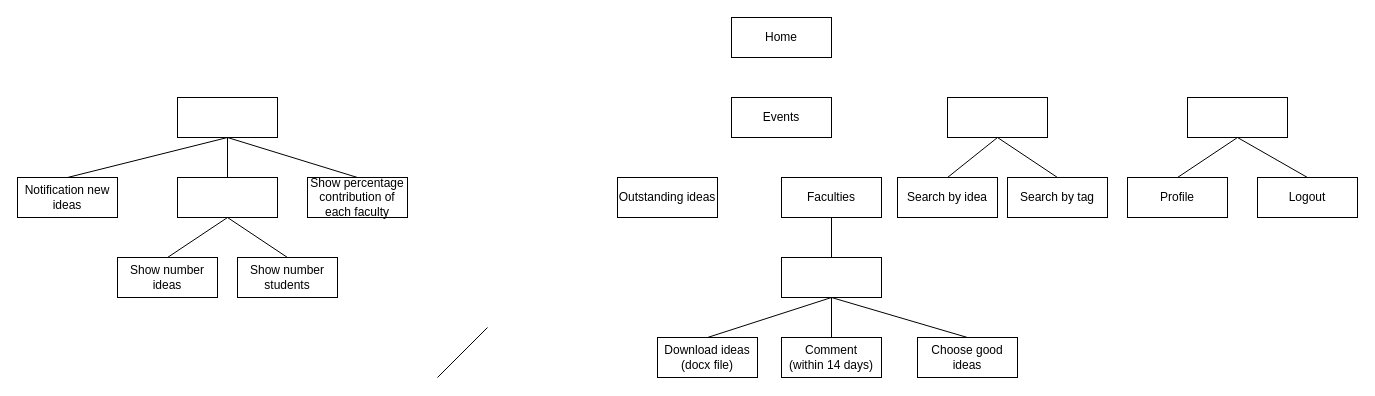
Image size: 1375x396. Some labels were removed from this diagram. The centre of each missing label's shape, as x and y in pixels:
"Dashboard" belongs at (x=227, y=117).
"Ideas" belongs at (x=831, y=277).
"Search" belongs at (x=997, y=117).
"Setting" belongs at (x=1237, y=117).
"Show number faculties" belongs at (x=227, y=197).
